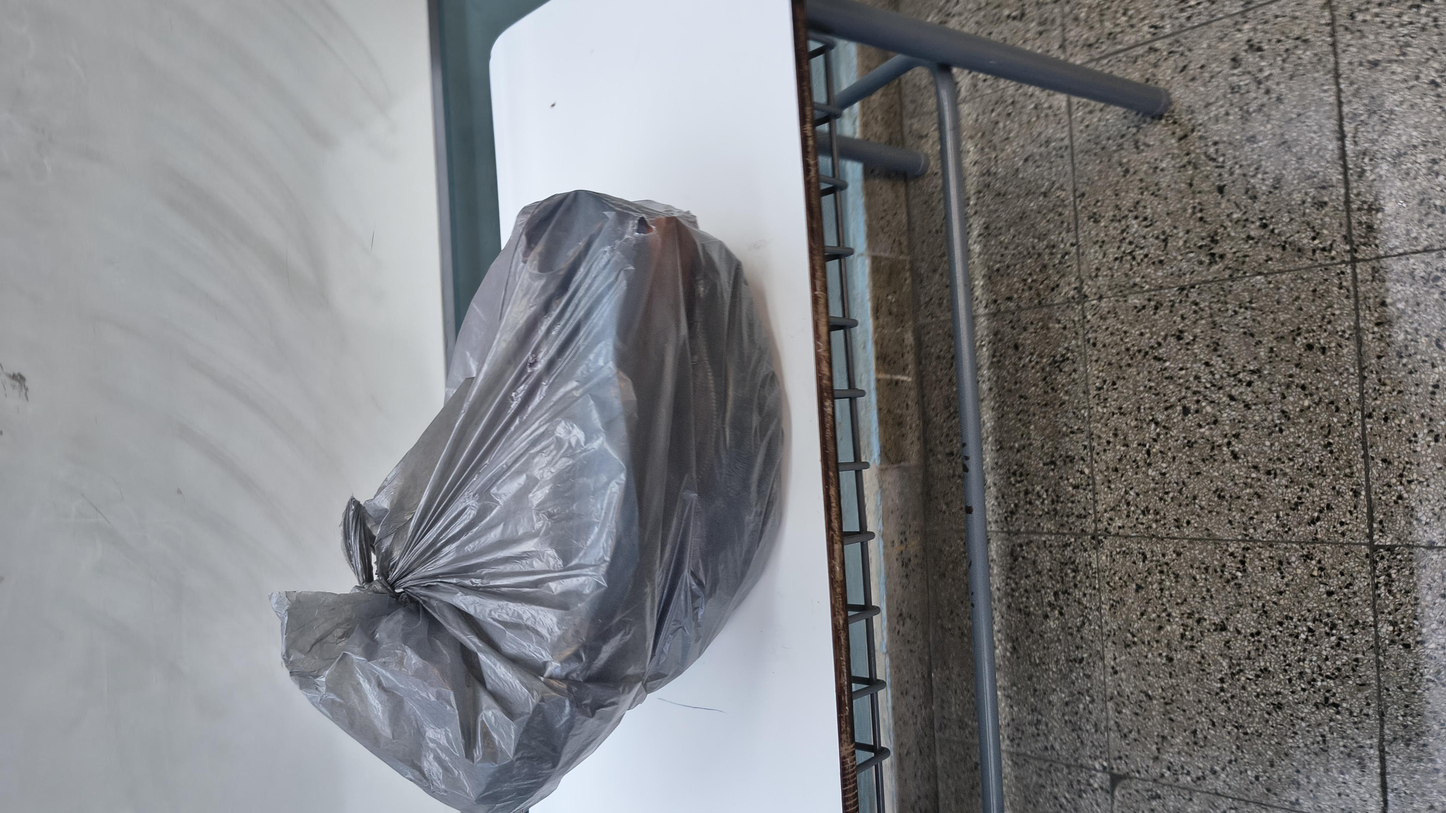Garbage: (6, 159, 1224, 455)
